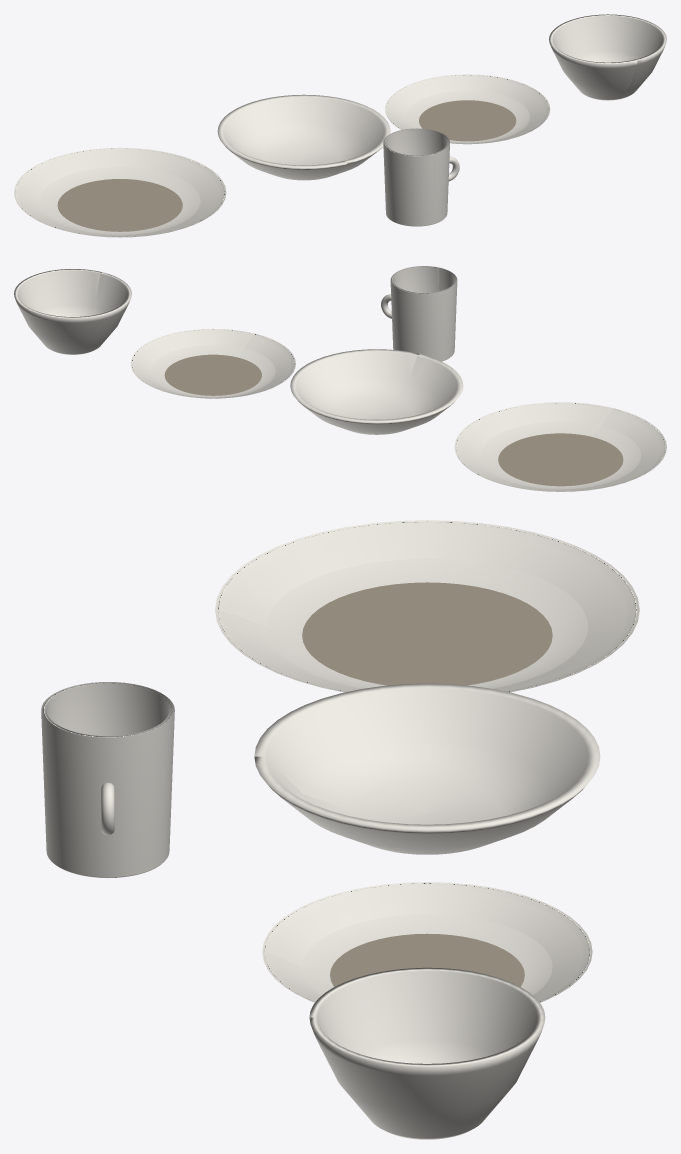
The model's file is GRL-06.glb.
3 views of the same model, one above another, from view 1: azimuth 30°, elevation 25°; view 2: azimuth 150°, elevation 25°; view 3: azimuth 270°, elevation 25° (orthographic). The views are drawn at different scales.
Size of the model in its own units: 0.926 by 0.1 by 0.3805.
